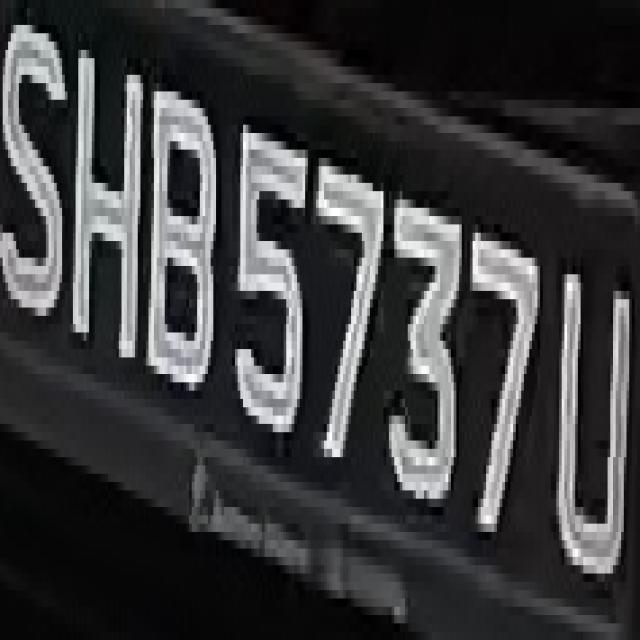3: (381, 166, 470, 532)
5: (232, 75, 311, 457)
7: (472, 174, 546, 574), (313, 125, 386, 482)
B: (146, 50, 219, 432)
H: (62, 33, 151, 399)
S: (0, 25, 65, 349)
U: (556, 258, 632, 606)
